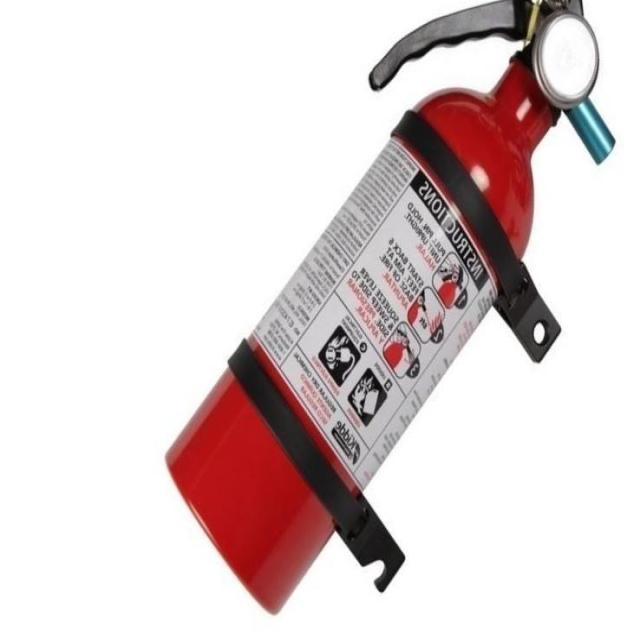fire_extinguisher: (158, 0, 620, 622)
